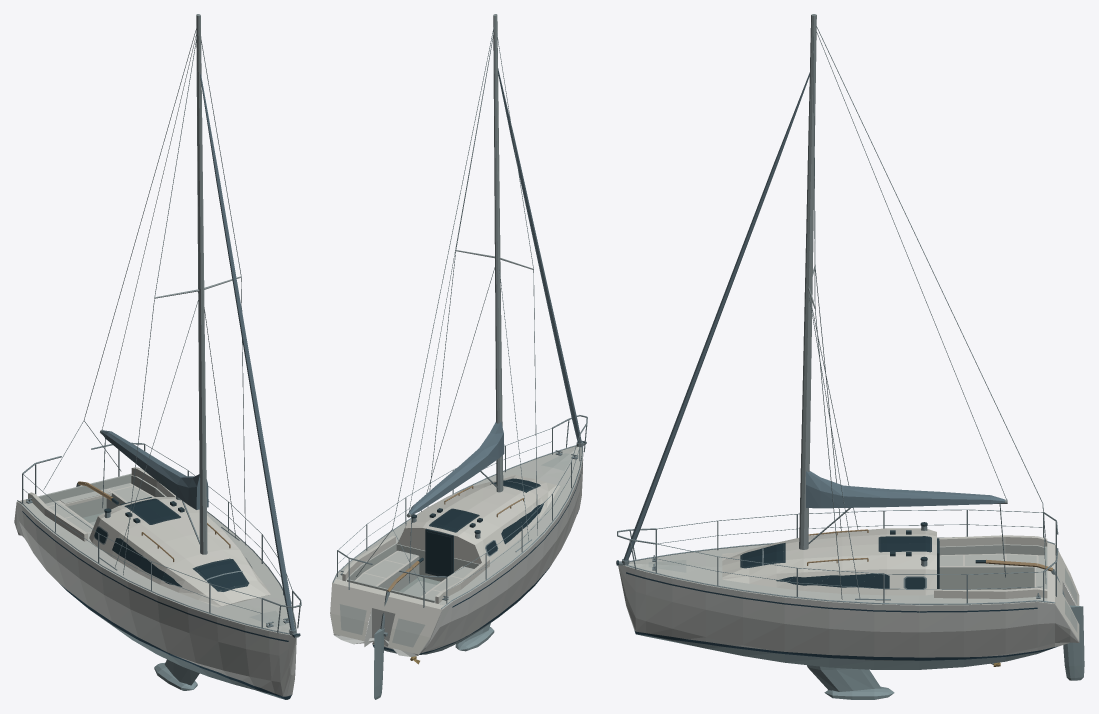
The model's file is KJP_SunOdyssey242.glb.
3 views of the same model, side by side, from view 1: azimuth 30°, elevation 25°; view 2: azimuth 150°, elevation 25°; view 3: azimuth 270°, elevation 25° (orthographic). The views are drawn at different scales.
Parts seen in each view (by area): view 1: KJP_SunOdyssey242; view 2: KJP_SunOdyssey242; view 3: KJP_SunOdyssey242.
Boxes of the visible parts, x1,y1,x2,y2 form: KJP_SunOdyssey242: [14, 14, 301, 699]; KJP_SunOdyssey242: [330, 14, 587, 699]; KJP_SunOdyssey242: [616, 14, 1084, 699].
Bounding box in the file's own units: 2.49 × 11.75 × 7.3.
